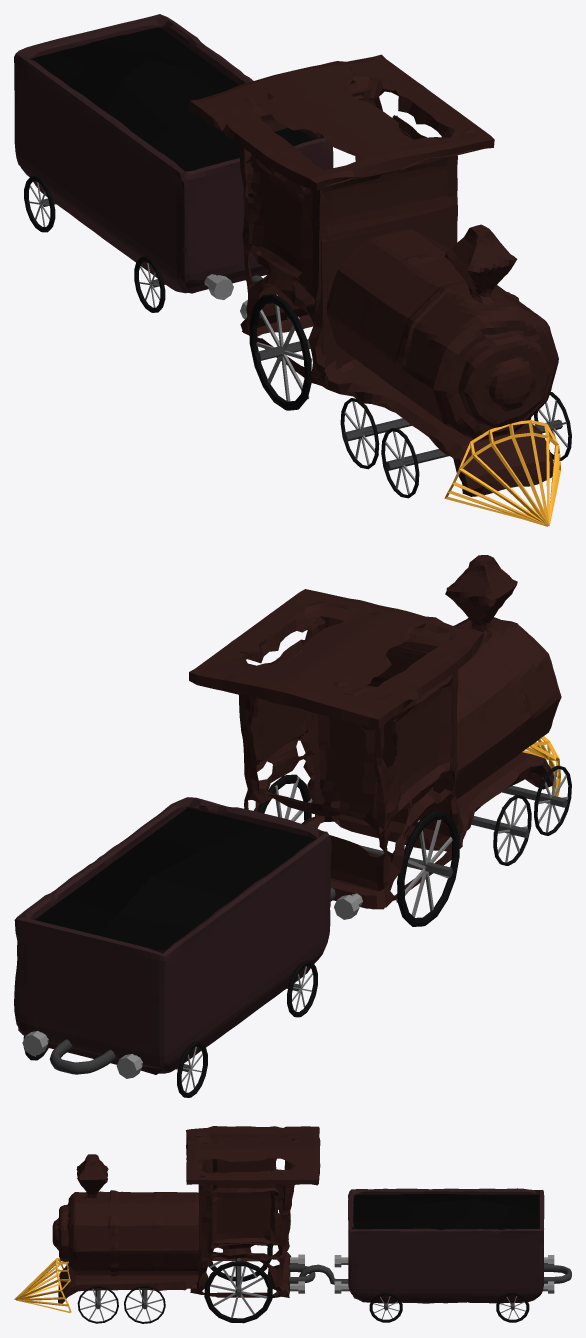
File: train.gltf
3 views of the same model, one above another, from view 1: azimuth 30°, elevation 25°; view 2: azimuth 150°, elevation 25°; view 3: azimuth 270°, elevation 25° (orthographic). The views are drawn at different scales.
Visible parts, largest first — view 1: EngineBody_Cube, EngineBoiler_Cylinder.002, CoalCartBody_Cube.008, CoalCartCoal_Plane, EngineCowCatcher_Cone, EngineWheel3_Circle, EngineSpokes3_Cube.001, EngineWheel1_Circle.002, EngineSpokes1_Cube.002, EngineAxle1_Cylinder.004, CoalCartWheel1_Circle.001, CoalCartWheel2_Circle.005 (+1 smaller); view 2: EngineBody_Cube, CoalCartBody_Cube.008, CoalCartCoal_Plane, EngineBoiler_Cylinder.002, EngineWheel3_Circle, EngineSpokes3_Cube.001, CoalCartConnectorLoop_Torus.005, CoalCartBackShock_Cylinder.011, CoalCartWheel2_Circle.005, EngineWheel2_Circle.003, CoalCartWheel1_Circle.001, EngineCowCatcher_Cone (+1 smaller); view 3: EngineBody_Cube, CoalCartBody_Cube.008, EngineBoiler_Cylinder.002, CoalCartCoal_Plane, EngineWheel3_Circle, EngineCowCatcher_Cone, EngineSpokes3_Cube.001, CoalCartConnectorLoop_Torus.005, CoalCartConnectorHook_Torus.004, CoalCartWheel1_Circle.001, CoalCartWheel2_Circle.005, CoalCartFrontShock_Cylinder.012 (+4 smaller).
Boxes of the visible parts, x1,y1,x2,y2 form: EngineBody_Cube: (189, 54, 553, 496); EngineBoiler_Cylinder.002: (326, 224, 558, 440); CoalCartBody_Cube.008: (14, 14, 333, 293); CoalCartCoal_Plane: (30, 27, 313, 171); EngineCowCatcher_Cone: (444, 420, 561, 526); EngineWheel3_Circle: (249, 294, 311, 410); EngineSpokes3_Cube.001: (256, 294, 312, 401); EngineWheel1_Circle.002: (381, 392, 571, 498); EngineSpokes1_Cube.002: (385, 400, 568, 494); EngineAxle1_Cylinder.004: (386, 419, 562, 470); CoalCartWheel1_Circle.001: (134, 256, 165, 312); CoalCartWheel2_Circle.005: (24, 176, 55, 232); EngineBody_Cube: (189, 589, 553, 909); CoalCartBody_Cube.008: (14, 797, 331, 1074); CoalCartCoal_Plane: (35, 808, 315, 950); EngineBoiler_Cylinder.002: (328, 555, 561, 823); EngineWheel3_Circle: (258, 774, 459, 926); EngineSpokes3_Cube.001: (275, 776, 452, 917); CoalCartConnectorLoop_Torus.005: (49, 1039, 115, 1074); CoalCartBackShock_Cylinder.011: (22, 1031, 142, 1078); CoalCartWheel2_Circle.005: (23, 1036, 207, 1097); EngineWheel2_Circle.003: (493, 794, 531, 865); CoalCartWheel1_Circle.001: (287, 961, 317, 1017); EngineCowCatcher_Cone: (522, 736, 560, 796); EngineBody_Cube: (58, 1126, 320, 1303); CoalCartBody_Cube.008: (348, 1188, 544, 1303); EngineBoiler_Cylinder.002: (52, 1154, 198, 1276); CoalCartCoal_Plane: (353, 1194, 538, 1229); EngineWheel3_Circle: (204, 1245, 272, 1323); EngineCowCatcher_Cone: (14, 1258, 71, 1312); EngineSpokes3_Cube.001: (209, 1247, 267, 1317); CoalCartConnectorLoop_Torus.005: (544, 1265, 571, 1283); CoalCartConnectorHook_Torus.004: (299, 1264, 348, 1284); CoalCartWheel1_Circle.001: (369, 1292, 402, 1322); CoalCartWheel2_Circle.005: (496, 1292, 529, 1322); CoalCartFrontShock_Cylinder.012: (334, 1255, 349, 1293).
Bounding box in the file's own units: 9.22 × 12.26 × 40.27.
